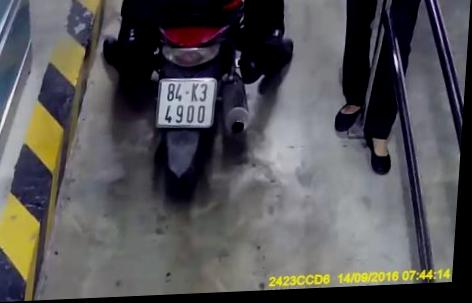License_Plate: (149, 72, 224, 136)
